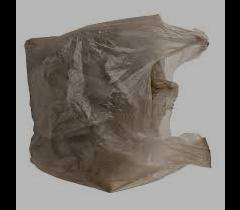Plastic: (22, 9, 219, 194)
